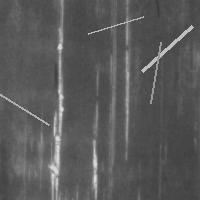scratches: (46, 1, 67, 199), (137, 21, 197, 76), (118, 1, 135, 160), (0, 82, 54, 130), (87, 70, 104, 200), (83, 11, 148, 38), (145, 37, 165, 108)
